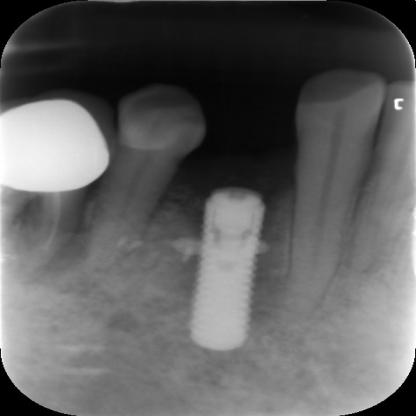ITI: (185, 187, 273, 353)
